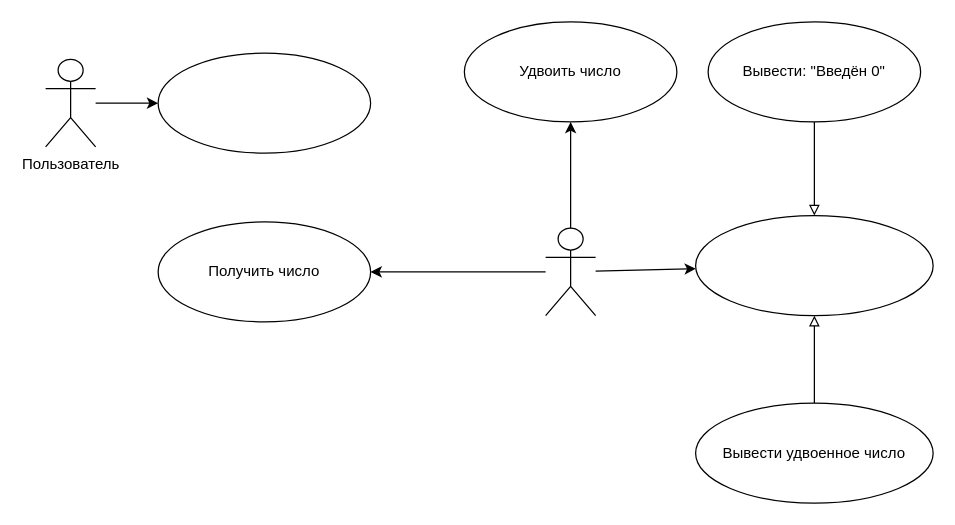
This 955x525 diagram has some shape labels left out. The shapes that lost their labels are listed below. From the top down, each one's centre as x and y in pixels, then its label:
At (264,102): "Ввести число".
At (570,271): "Программа".
At (813,265): "Вывести на экран результат".
